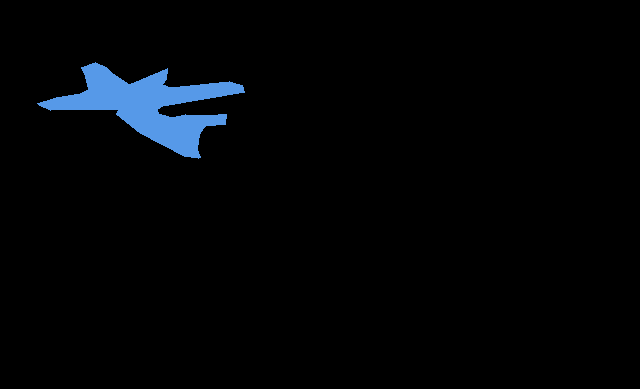Airplane: (37, 62, 244, 159)
